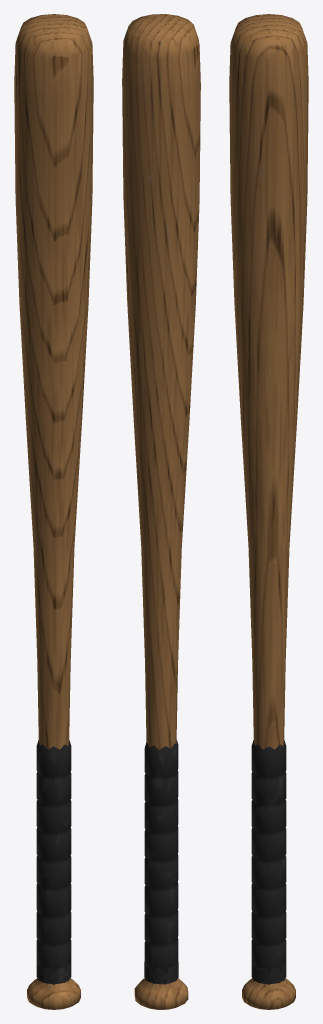
The model's file is wood_bat.glb.
3 views of the same model, side by side, from view 1: azimuth 90°, elevation 25°; view 2: azimuth 150°, elevation 25°; view 3: azimuth 270°, elevation 25° (orthographic).
Parts seen in each view (by area): view 1: Bat_Wood; view 2: Bat_Wood; view 3: Bat_Wood.
Boxes of the visible parts, box(x1,y1,x2,y2) form: Bat_Wood: box(14, 14, 93, 1009); Bat_Wood: box(122, 14, 200, 1009); Bat_Wood: box(229, 14, 308, 1009).
Bounding box in the file's own units: 0.062 × 0.843 × 0.062.
1 material, 1 textured.
